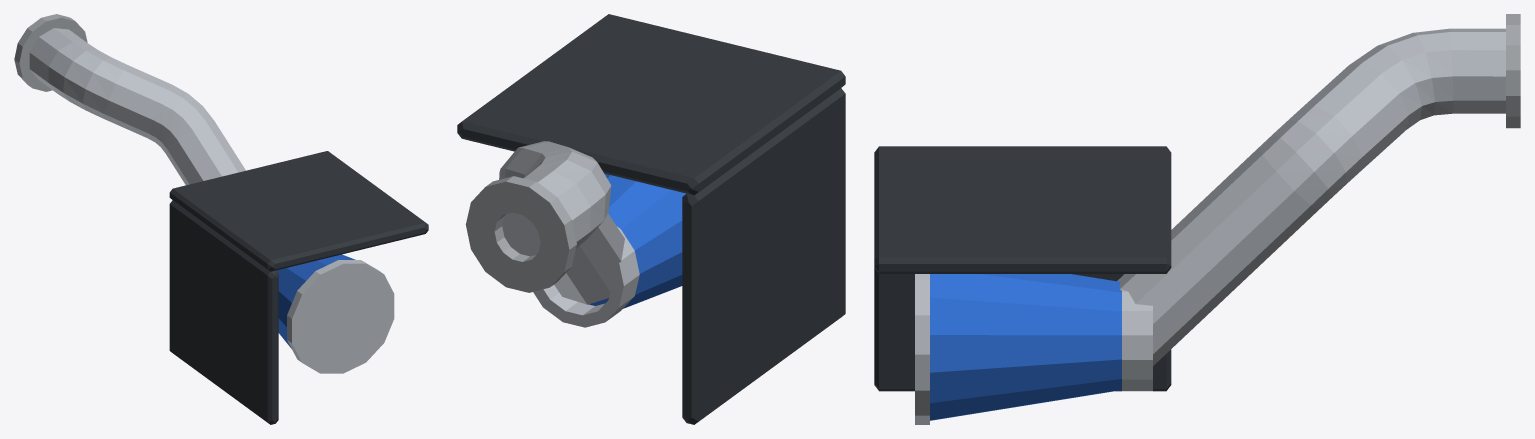
Rendered from strada_evo.glb.
The picture shows the model from 3 angles, left to right: view 1: azimuth 30°, elevation 25°; view 2: azimuth 150°, elevation 25°; view 3: azimuth 270°, elevation 25°; orthographic projection. The views are drawn at different scales.
Visible parts, largest first — view 1: model; view 2: model; view 3: model.
Boxes of the visible parts, x1,y1,x2,y2 form: model: [14, 14, 428, 424]; model: [457, 14, 845, 424]; model: [874, 14, 1520, 424].
Bounding box in the file's own units: 0.2673 × 0.326 × 0.522.
Materials: 2 (1 with a texture image).
